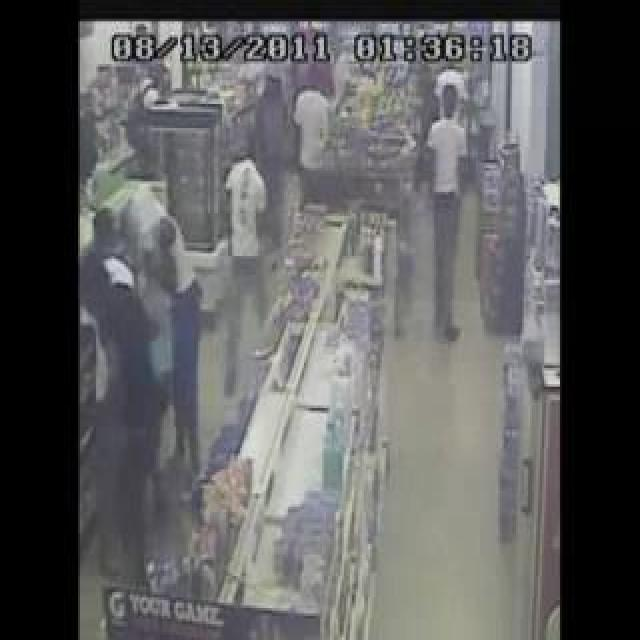thief: (101, 172, 186, 282), (428, 82, 466, 181), (288, 61, 349, 117), (202, 120, 242, 190)
